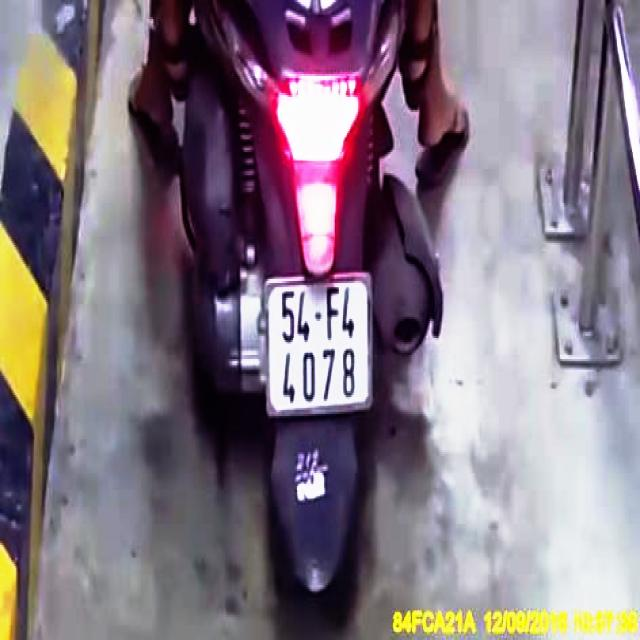license_plate: (268, 280, 370, 412)
